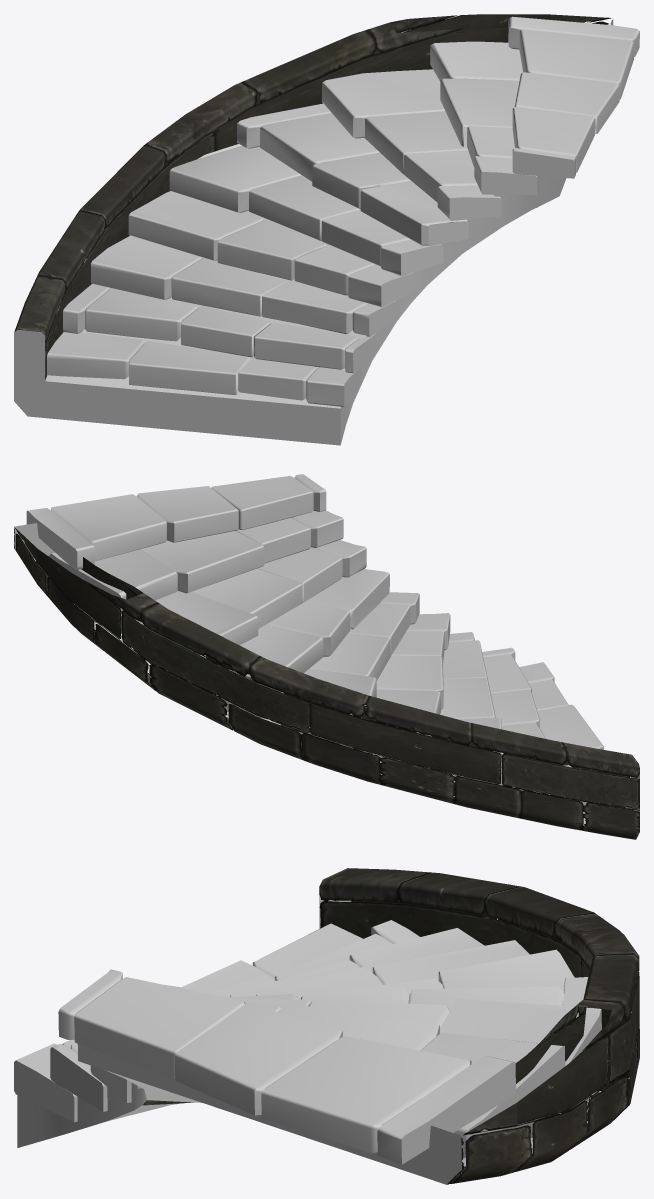
The picture shows the model from 3 angles, top to bottom: view 1: azimuth 30°, elevation 25°; view 2: azimuth 150°, elevation 25°; view 3: azimuth 270°, elevation 25°; orthographic projection. The views are drawn at different scales.
Parts seen in each view (by area): view 1: SM_Dowdun_Spiral_Staircase_Tower_03_B_LOD0; view 2: SM_Dowdun_Spiral_Staircase_Tower_03_B_LOD0; view 3: SM_Dowdun_Spiral_Staircase_Tower_03_B_LOD0.
Boxes of the visible parts, x1,y1,x2,y2 form: SM_Dowdun_Spiral_Staircase_Tower_03_B_LOD0: (14,14,639,445); SM_Dowdun_Spiral_Staircase_Tower_03_B_LOD0: (14,474,639,839); SM_Dowdun_Spiral_Staircase_Tower_03_B_LOD0: (14,868,639,1184).
Bounding box in the file's own units: 7.59 × 2.52 × 4.32.
